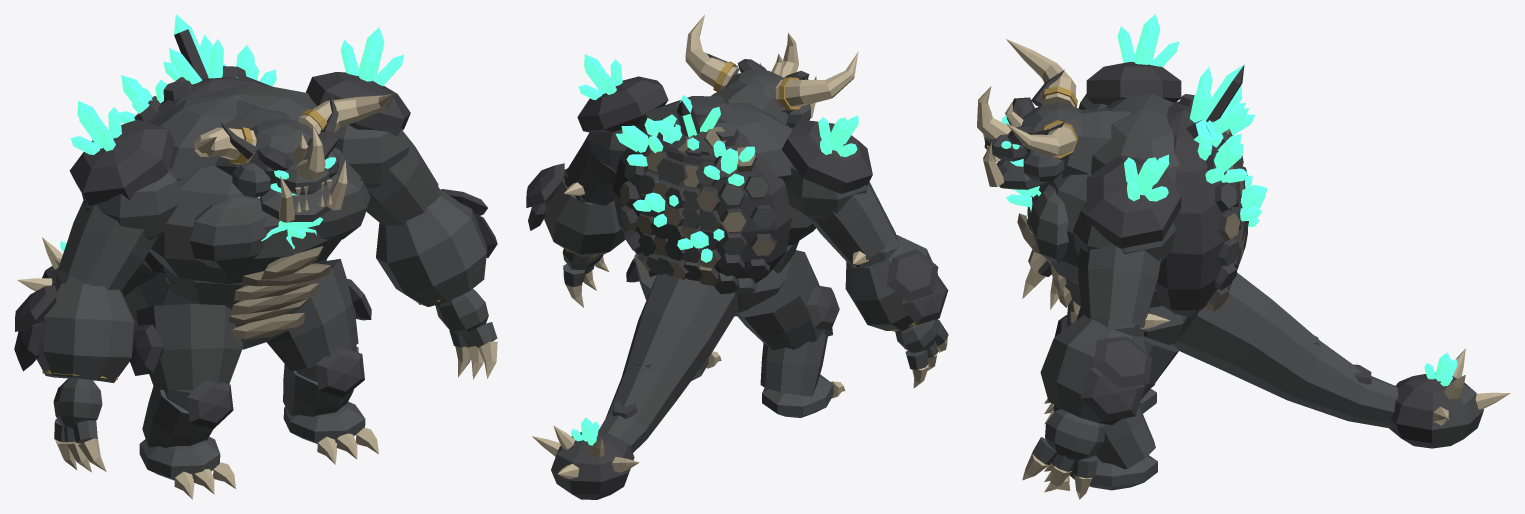
File: rock.glb
3 renders of one model, left to right at view 1: azimuth 30°, elevation 25°; view 2: azimuth 150°, elevation 25°; view 3: azimuth 270°, elevation 25°, orthographic. The views are drawn at different scales.
Parts seen in each view (by area): view 1: RockMonster_Body, RockMonster_Arm_R, RockMonster_Arm_L, RockMonster_Leg_R, RockMonster_Leg_L, RockMonster_Head, RockMonster_Shell, RockMonster_Horns, RockMonster_Hand_R, RockMonster_Hand_L, RockMonster_Tail; view 2: RockMonster_Shell, RockMonster_Arm_R, RockMonster_Tail, RockMonster_Arm_L, RockMonster_Leg_R, RockMonster_Body, RockMonster_Horns, RockMonster_Hand_R, RockMonster_Head, RockMonster_Hand_L, RockMonster_Leg_L; view 3: RockMonster_Arm_L, RockMonster_Tail, RockMonster_Shell, RockMonster_Body, RockMonster_Head, RockMonster_Leg_L, RockMonster_Arm_R, RockMonster_Hand_L, RockMonster_Horns, RockMonster_Leg_R, RockMonster_Hand_R.
Boxes of the visible parts, x1,y1,x2,y2 form: RockMonster_Body: (149, 83, 370, 349); RockMonster_Arm_R: (14, 100, 180, 383); RockMonster_Arm_L: (306, 27, 497, 306); RockMonster_Leg_R: (130, 304, 242, 499); RockMonster_Leg_L: (266, 259, 378, 464); RockMonster_Head: (220, 94, 347, 222); RockMonster_Shell: (120, 14, 276, 277); RockMonster_Horns: (194, 93, 393, 180); RockMonster_Hand_R: (53, 378, 106, 472); RockMonster_Hand_L: (435, 289, 497, 379); RockMonster_Tail: (17, 237, 169, 327); RockMonster_Shell: (612, 94, 791, 294); RockMonster_Arm_R: (782, 115, 948, 331); RockMonster_Tail: (532, 273, 738, 499); RockMonster_Arm_L: (526, 54, 668, 257); RockMonster_Leg_R: (737, 250, 845, 417); RockMonster_Body: (636, 86, 815, 316); RockMonster_Horns: (685, 14, 858, 109); RockMonster_Hand_R: (895, 319, 948, 388); RockMonster_Head: (707, 53, 816, 129); RockMonster_Hand_L: (562, 248, 608, 307); RockMonster_Leg_L: (626, 253, 721, 380); RockMonster_Arm_L: (1040, 154, 1181, 424); RockMonster_Tail: (1172, 272, 1510, 448); RockMonster_Shell: (1156, 64, 1267, 316); RockMonster_Body: (1006, 93, 1187, 344); RockMonster_Head: (983, 69, 1083, 189); RockMonster_Leg_L: (1044, 307, 1179, 492); RockMonster_Arm_R: (1078, 14, 1181, 109); RockMonster_Hand_L: (1022, 409, 1105, 499); RockMonster_Horns: (977, 39, 1077, 158); RockMonster_Leg_R: (1044, 303, 1156, 424); RockMonster_Hand_R: (1022, 260, 1058, 309).
Bounding box in the file's own units: 3.03 × 2.41 × 3.05.
